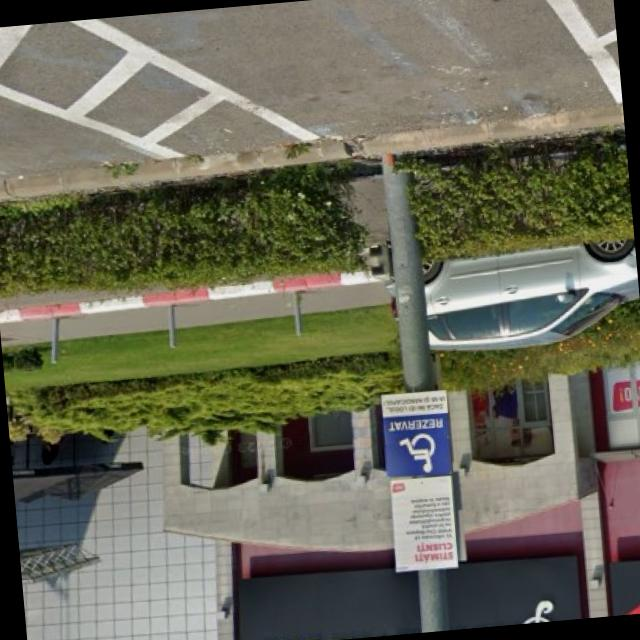symbol_of_access: (391, 426, 440, 478)
